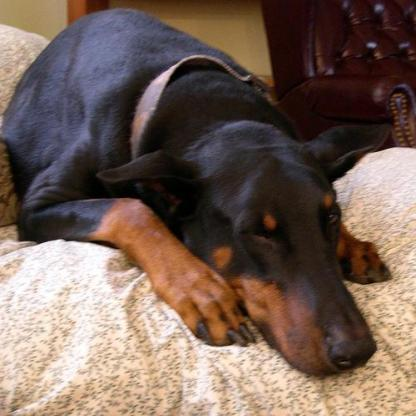Doberman: (0, 6, 393, 383)
